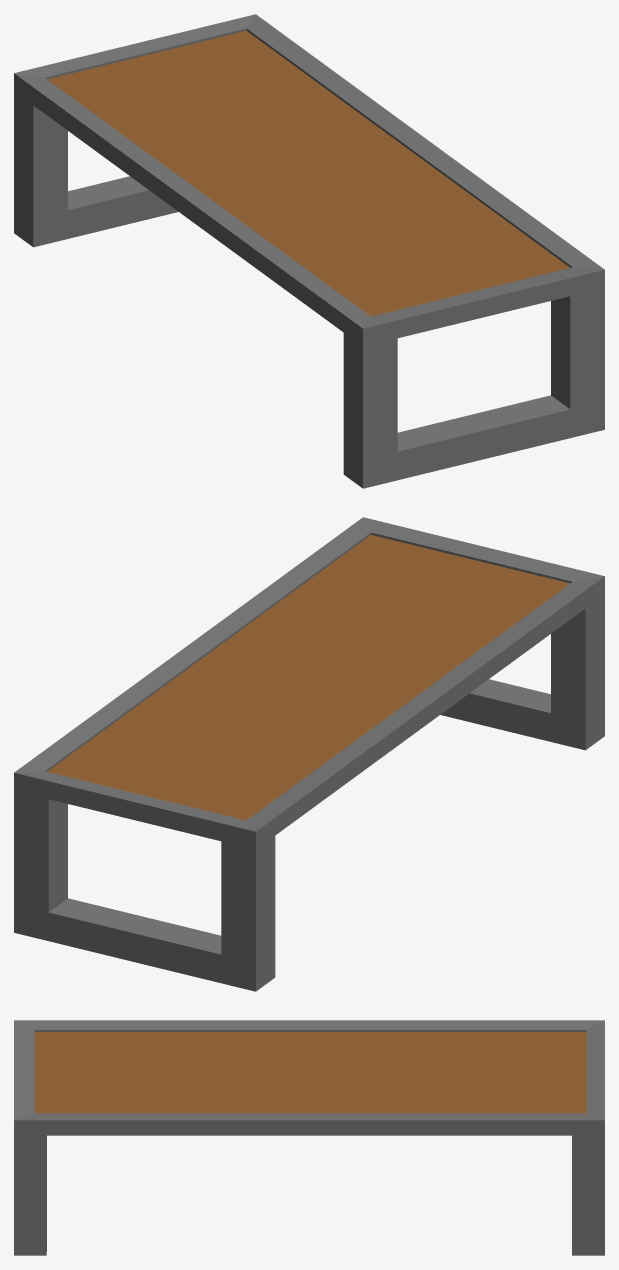
Rendered from Bench.fbx.
The picture shows the model from 3 angles, top to bottom: view 1: azimuth 30°, elevation 25°; view 2: azimuth 150°, elevation 25°; view 3: azimuth 270°, elevation 25°; orthographic projection. The views are drawn at different scales.
Parts seen in each view (by area): view 1: Bench; view 2: Bench; view 3: Bench.
Part boxes in pixels (<box>): Bench: <box>14,14,604,488</box>; Bench: <box>14,517,604,991</box>; Bench: <box>14,1020,604,1255</box>.
Bounding box in the file's own units: 100 × 63.21 × 250.
